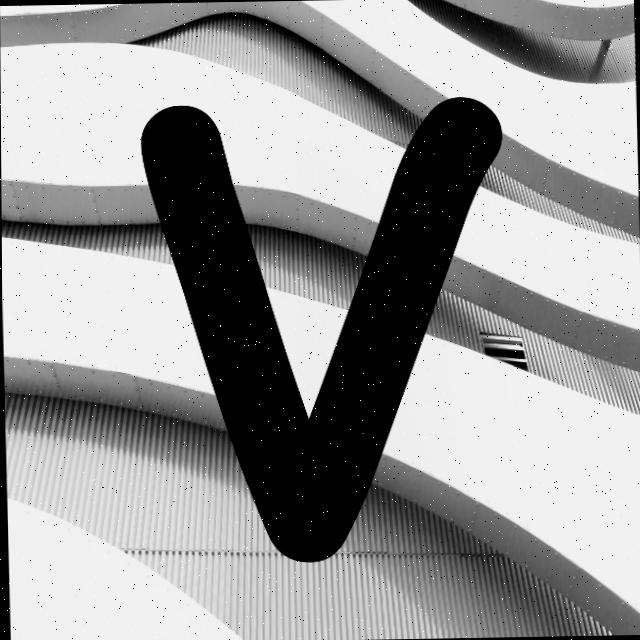V: (141, 98, 500, 561)
